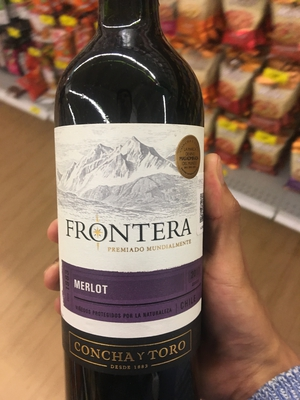frontera merlot: (53, 26, 216, 400)
